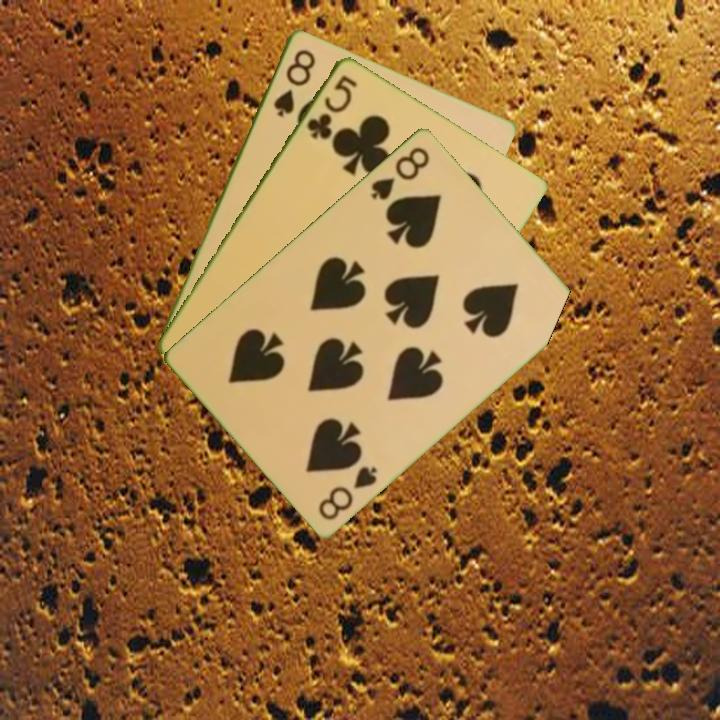5c: (302, 70, 360, 142)
8s: (314, 462, 381, 523), (367, 143, 433, 203), (269, 45, 319, 120)
